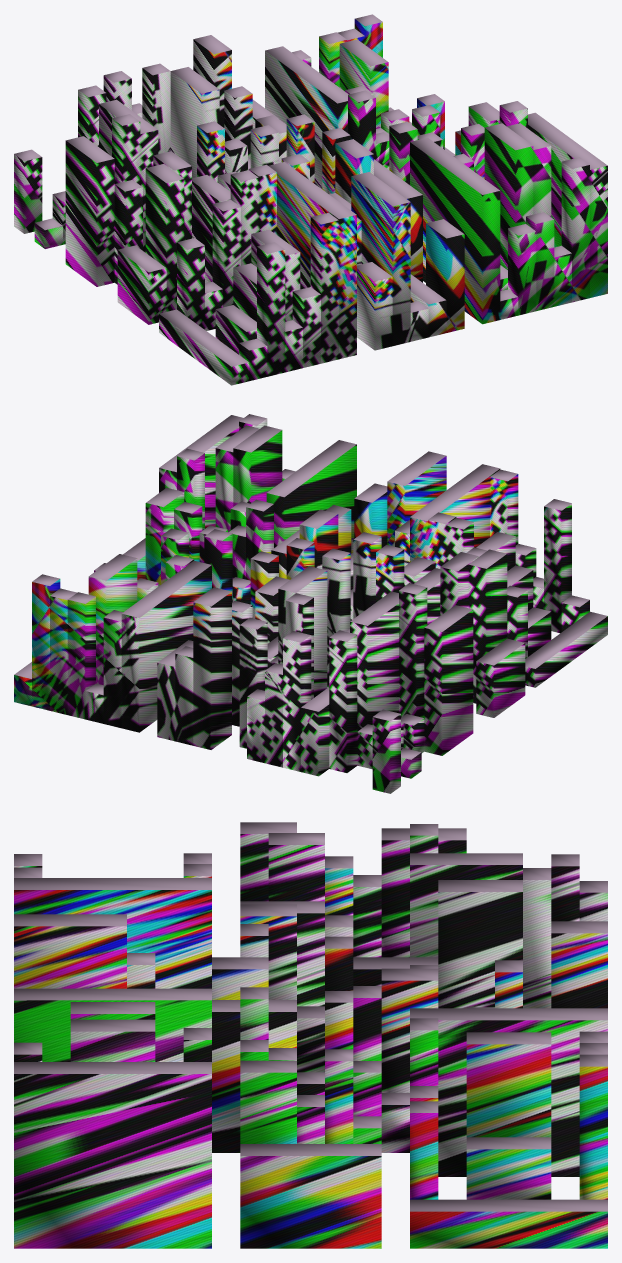
File: qr_maze3.gltf
3 views of the same model, one above another, from view 1: azimuth 30°, elevation 25°; view 2: azimuth 150°, elevation 25°; view 3: azimuth 270°, elevation 25° (orthographic). The views are drawn at different scales.
Parts seen in each view (by area): view 1: uvquickshade1; view 2: uvquickshade1; view 3: uvquickshade1.
Part boxes in pixels (box(x1,y1,x2,y2)): uvquickshade1: box(14, 14, 607, 385); uvquickshade1: box(14, 414, 607, 793); uvquickshade1: box(14, 822, 607, 1248).
Bounding box in the file's own units: 1 × 0.3743 × 1.
Materials: 1 (1 with a texture image).
